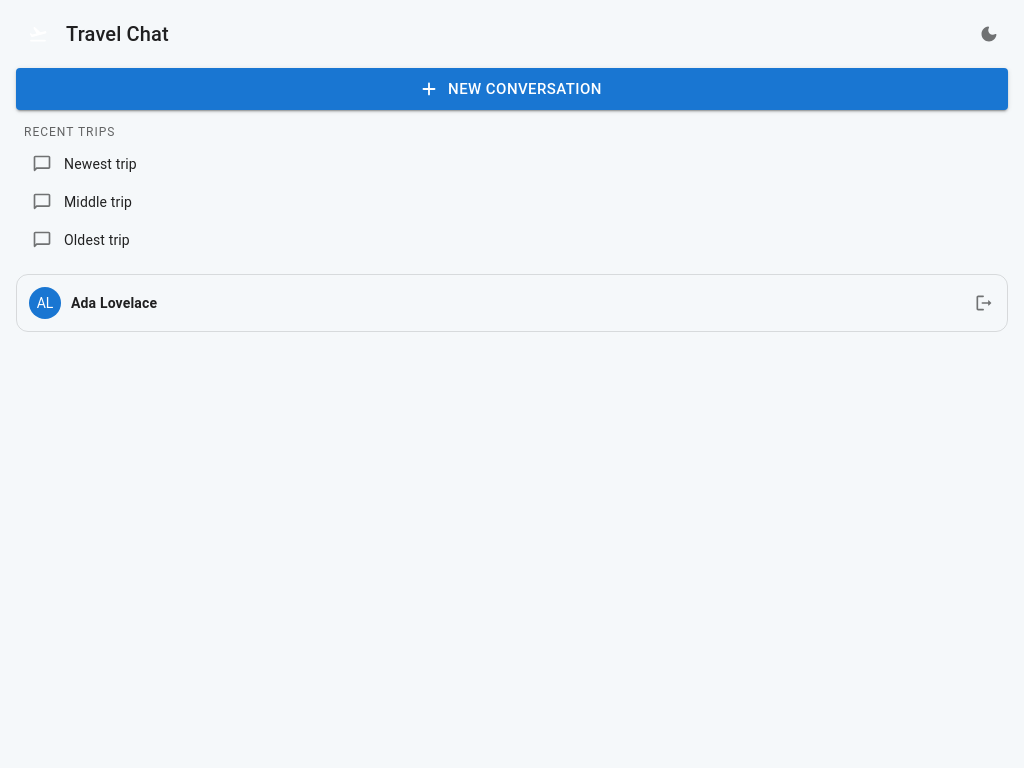
Test case: Sidebar › sends DELETE on clear and shows the note
Click the button with aria-label "Profile" at coordinates (45, 303), box [25,283,961,323]
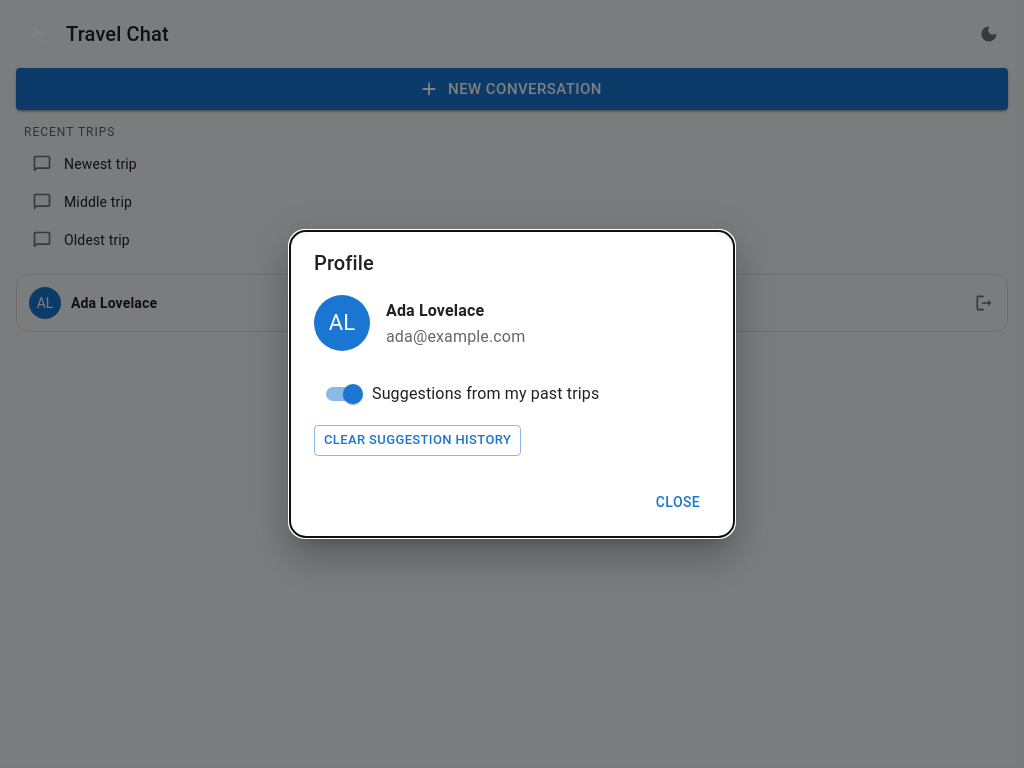
Check: the switch labelled "Suggestions from my past trips" is enabled, box [326,384,599,404]
Click the button "Clear suggestion history" at coordinates (418, 441), box [314,425,521,456]
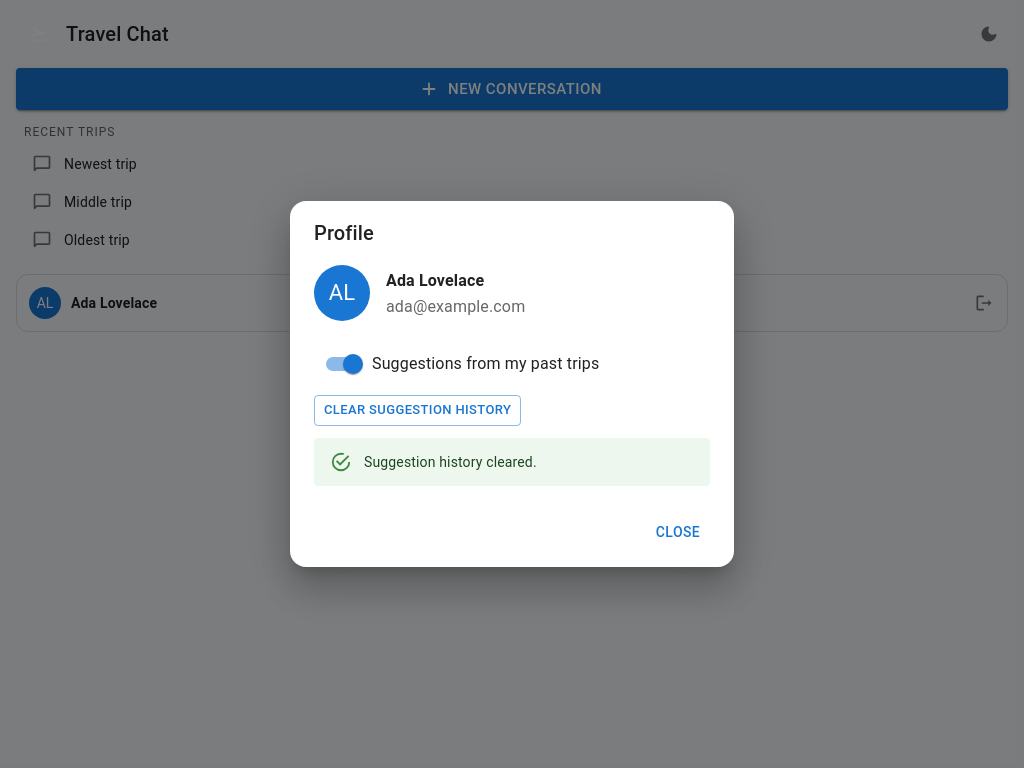
Check: the text "Suggestion history cleared." is shown, box [364,454,537,470]
